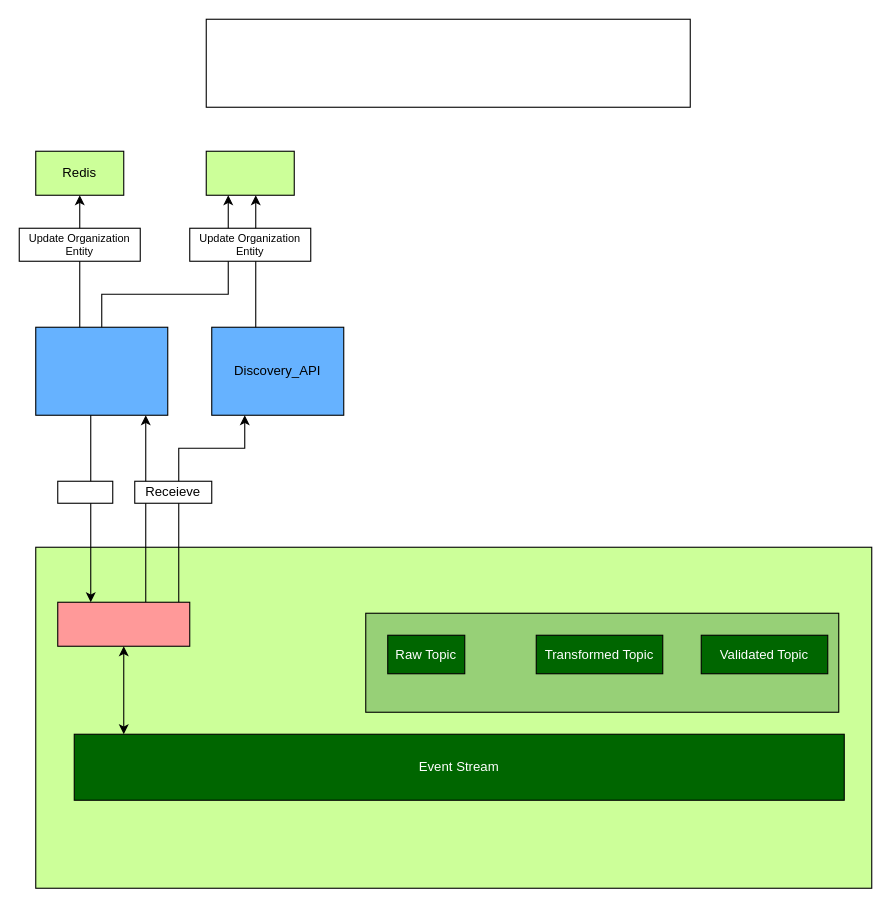
The diagram is 891 pixels wide and 908 high, and some of its shapes have lost their labels. Here are the shapes that lost their labels. From the top down, the centre of each, then its label:
At (447,62): "Organization Update".
At (249,172): "Postgres".
At (101,370): "Andi".
At (85,491): "Send".
At (123,623): "Organization_Update".
